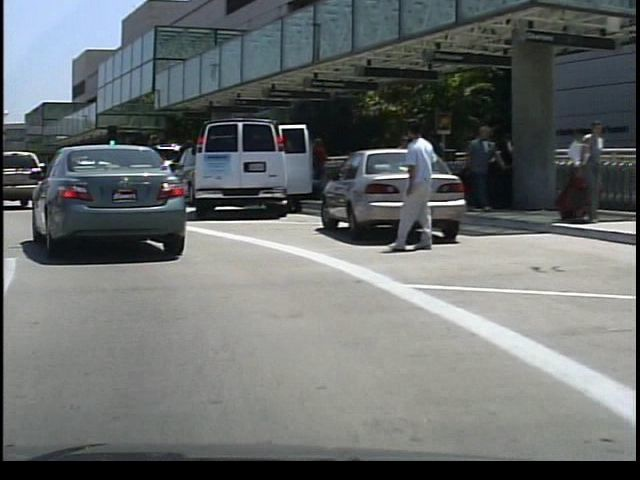person: (386, 114, 435, 253), (563, 115, 604, 222), (459, 122, 499, 212), (305, 133, 328, 199)
